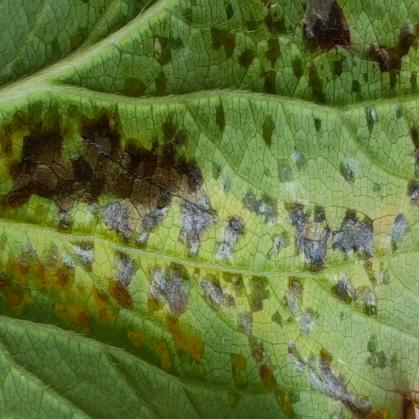Angular Leafspot: (0, 0, 418, 418)
